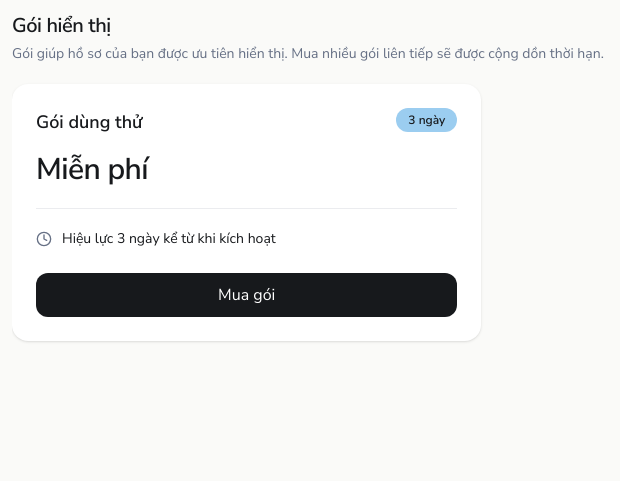
Test: partner plans page › activates a free plan immediately without asking for a payment method
Expected: the heading "Gói dùng thử" is shown, [36,108,142,136]
Click the button "Mua gói": (247, 295) [36,273,457,317]
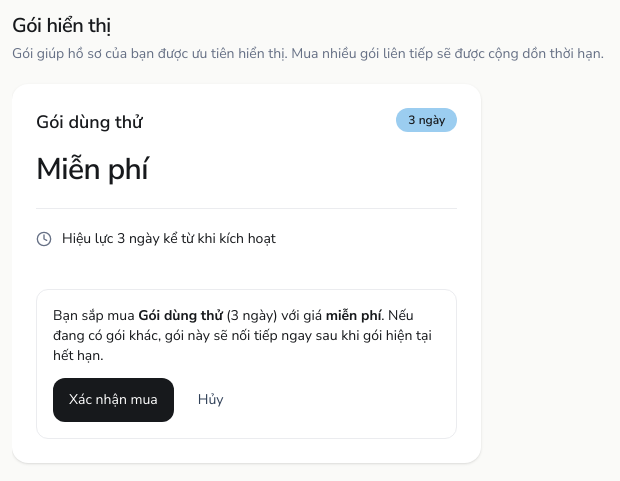
Click the button "Xác nhận mua": (113, 400) [53,378,174,422]
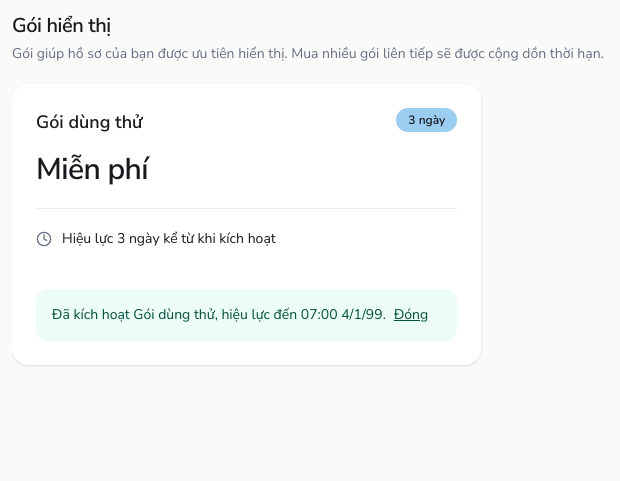
Expected: the message shows "Đã kích hoạt Gói dùng thử", [36,289,457,341]
